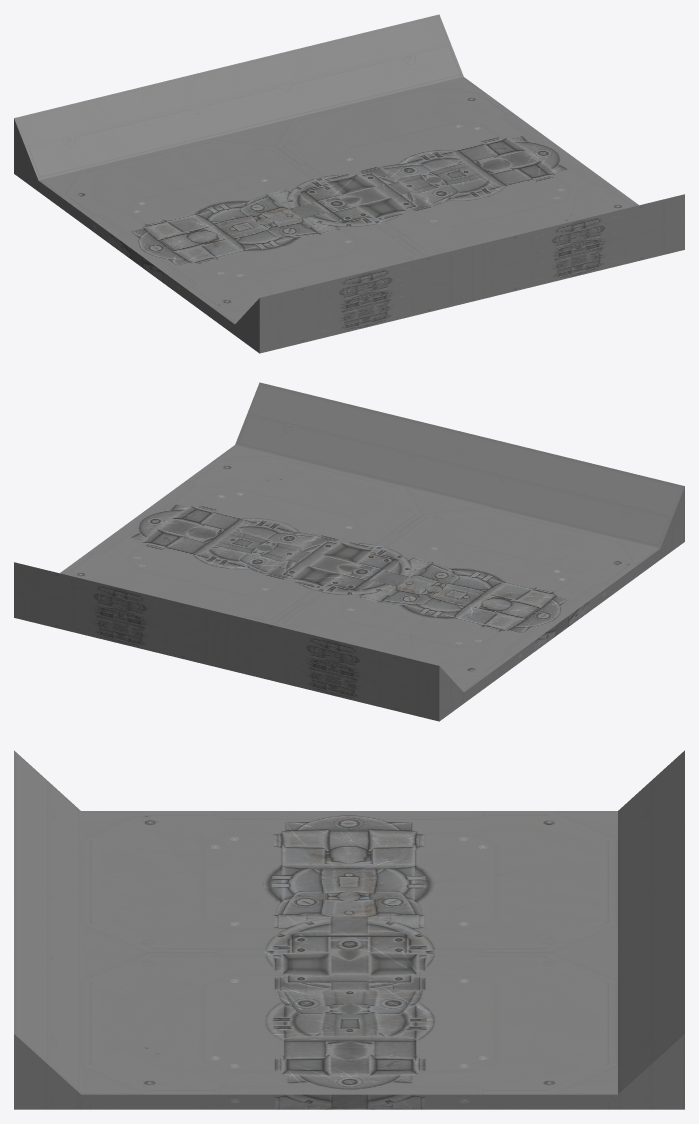
File: SM_CeilingS03.fbx
3 views of the same model, one above another, from view 1: azimuth 30°, elevation 25°; view 2: azimuth 150°, elevation 25°; view 3: azimuth 270°, elevation 25° (orthographic). The views are drawn at different scales.
Visible parts, largest first — view 1: SM_CeilingS03_LOD0; view 2: SM_CeilingS03_LOD0; view 3: SM_CeilingS03_LOD0.
Boxes of the visible parts, <box> form: SM_CeilingS03_LOD0: <box>14,14,684,353</box>; SM_CeilingS03_LOD0: <box>14,382,684,721</box>; SM_CeilingS03_LOD0: <box>14,750,684,1109</box>.
Bounding box in the file's own units: 400 × 400 × 50.
1 material, 1 textured.
